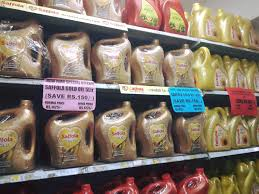saffola: (0, 0, 207, 173)
